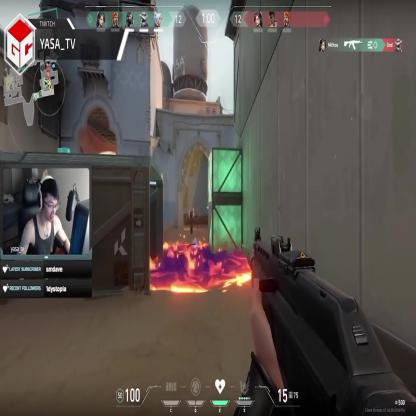enemy: (188, 205, 193, 234)
enemy_head: (191, 206, 194, 212)
